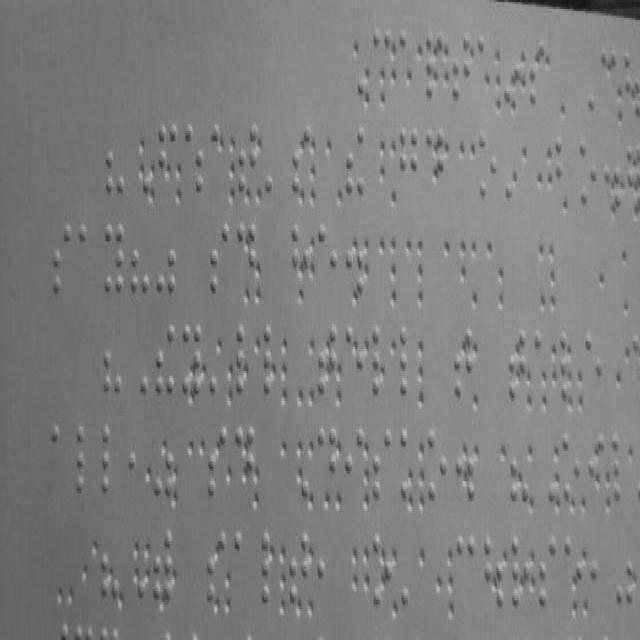braiile: (232, 531, 258, 607), (426, 424, 448, 509), (100, 422, 124, 498), (316, 221, 338, 303), (455, 532, 477, 614), (74, 422, 98, 494), (209, 219, 231, 297), (104, 218, 125, 298), (76, 220, 98, 296), (49, 422, 72, 494), (316, 423, 338, 497), (288, 530, 310, 604), (399, 124, 419, 204), (343, 426, 365, 498), (372, 427, 393, 502), (52, 220, 72, 296), (584, 331, 604, 407), (538, 536, 558, 612), (554, 136, 576, 202), (238, 120, 258, 191), (610, 431, 630, 502), (399, 328, 418, 397), (562, 432, 580, 501), (452, 36, 470, 102)
